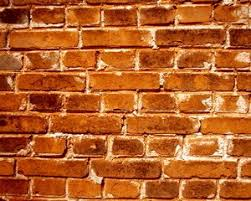brick: (17, 157, 88, 178), (157, 29, 226, 47), (90, 161, 161, 178), (165, 74, 233, 91), (51, 116, 123, 132), (164, 162, 236, 178), (89, 73, 159, 89), (82, 31, 151, 47), (11, 30, 79, 46), (127, 118, 198, 133), (19, 74, 85, 89), (1, 114, 46, 132), (104, 6, 139, 27), (202, 118, 251, 133), (66, 7, 103, 26), (176, 50, 214, 68), (176, 5, 211, 24), (186, 137, 222, 155), (102, 181, 142, 197), (27, 93, 62, 111), (99, 50, 136, 67), (142, 7, 174, 26), (139, 51, 177, 67), (114, 137, 146, 156), (181, 93, 214, 111), (73, 138, 106, 156), (146, 181, 180, 198), (33, 7, 65, 25), (66, 93, 98, 111), (68, 179, 100, 197), (217, 51, 250, 68), (184, 181, 217, 198), (63, 51, 95, 68), (141, 94, 173, 111), (37, 137, 67, 155), (27, 52, 58, 69), (1, 136, 29, 154), (218, 96, 247, 113), (149, 138, 176, 156), (32, 181, 64, 196), (103, 95, 133, 110), (1, 8, 29, 24), (224, 183, 251, 198), (1, 94, 26, 110), (229, 138, 251, 156), (1, 180, 27, 195), (231, 29, 250, 48), (215, 6, 238, 21), (1, 54, 21, 70), (238, 72, 251, 91), (1, 74, 16, 90), (1, 158, 14, 174)
